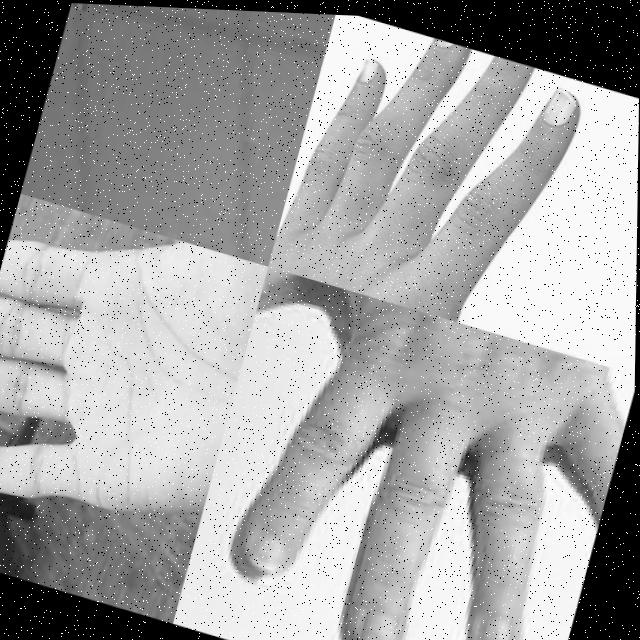hand: (181, 261, 637, 640), (266, 9, 640, 358), (0, 192, 268, 555), (142, 111, 298, 264)
